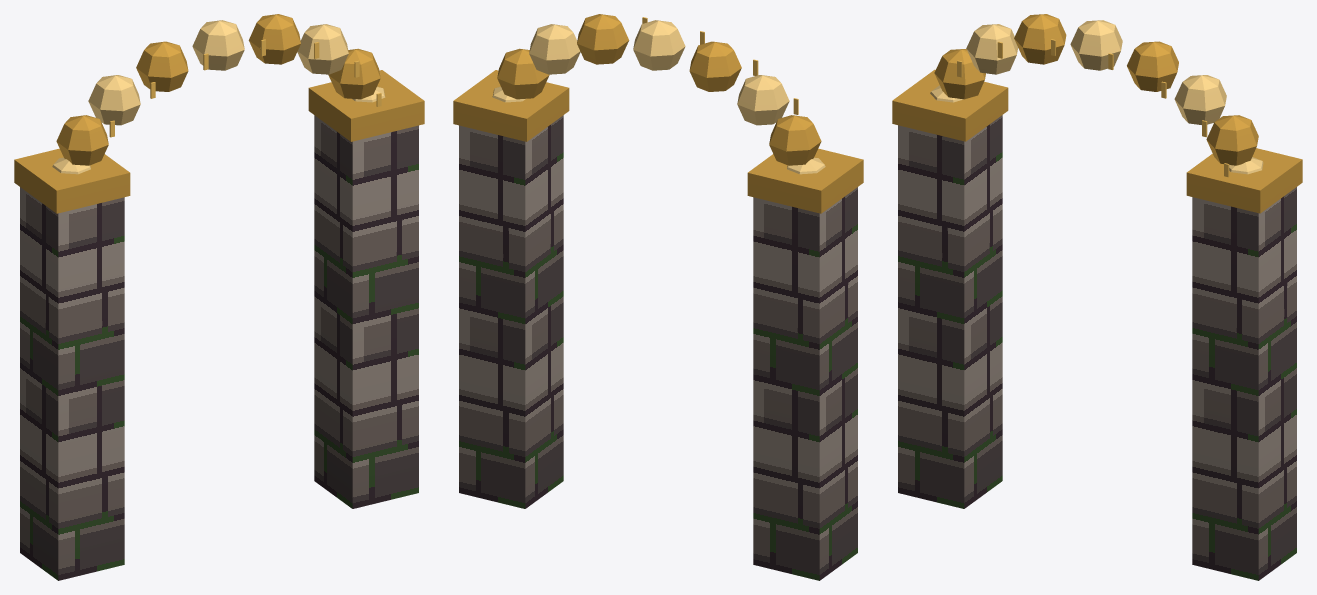
Rendered from gold_arch.glb.
The picture shows the model from 3 angles, left to right: view 1: azimuth 30°, elevation 25°; view 2: azimuth 150°, elevation 25°; view 3: azimuth 330°, elevation 25°; orthographic projection.
Visible parts, largest first — view 1: gold_arch; view 2: gold_arch; view 3: gold_arch.
Boxes of the visible parts, <box> form: gold_arch: <box>14,14,424,580</box>; gold_arch: <box>453,14,863,580</box>; gold_arch: <box>892,14,1302,580</box>.
Size of the model in its own units: 5 by 6.52 by 1.
Materials: 3 (1 with a texture image).
